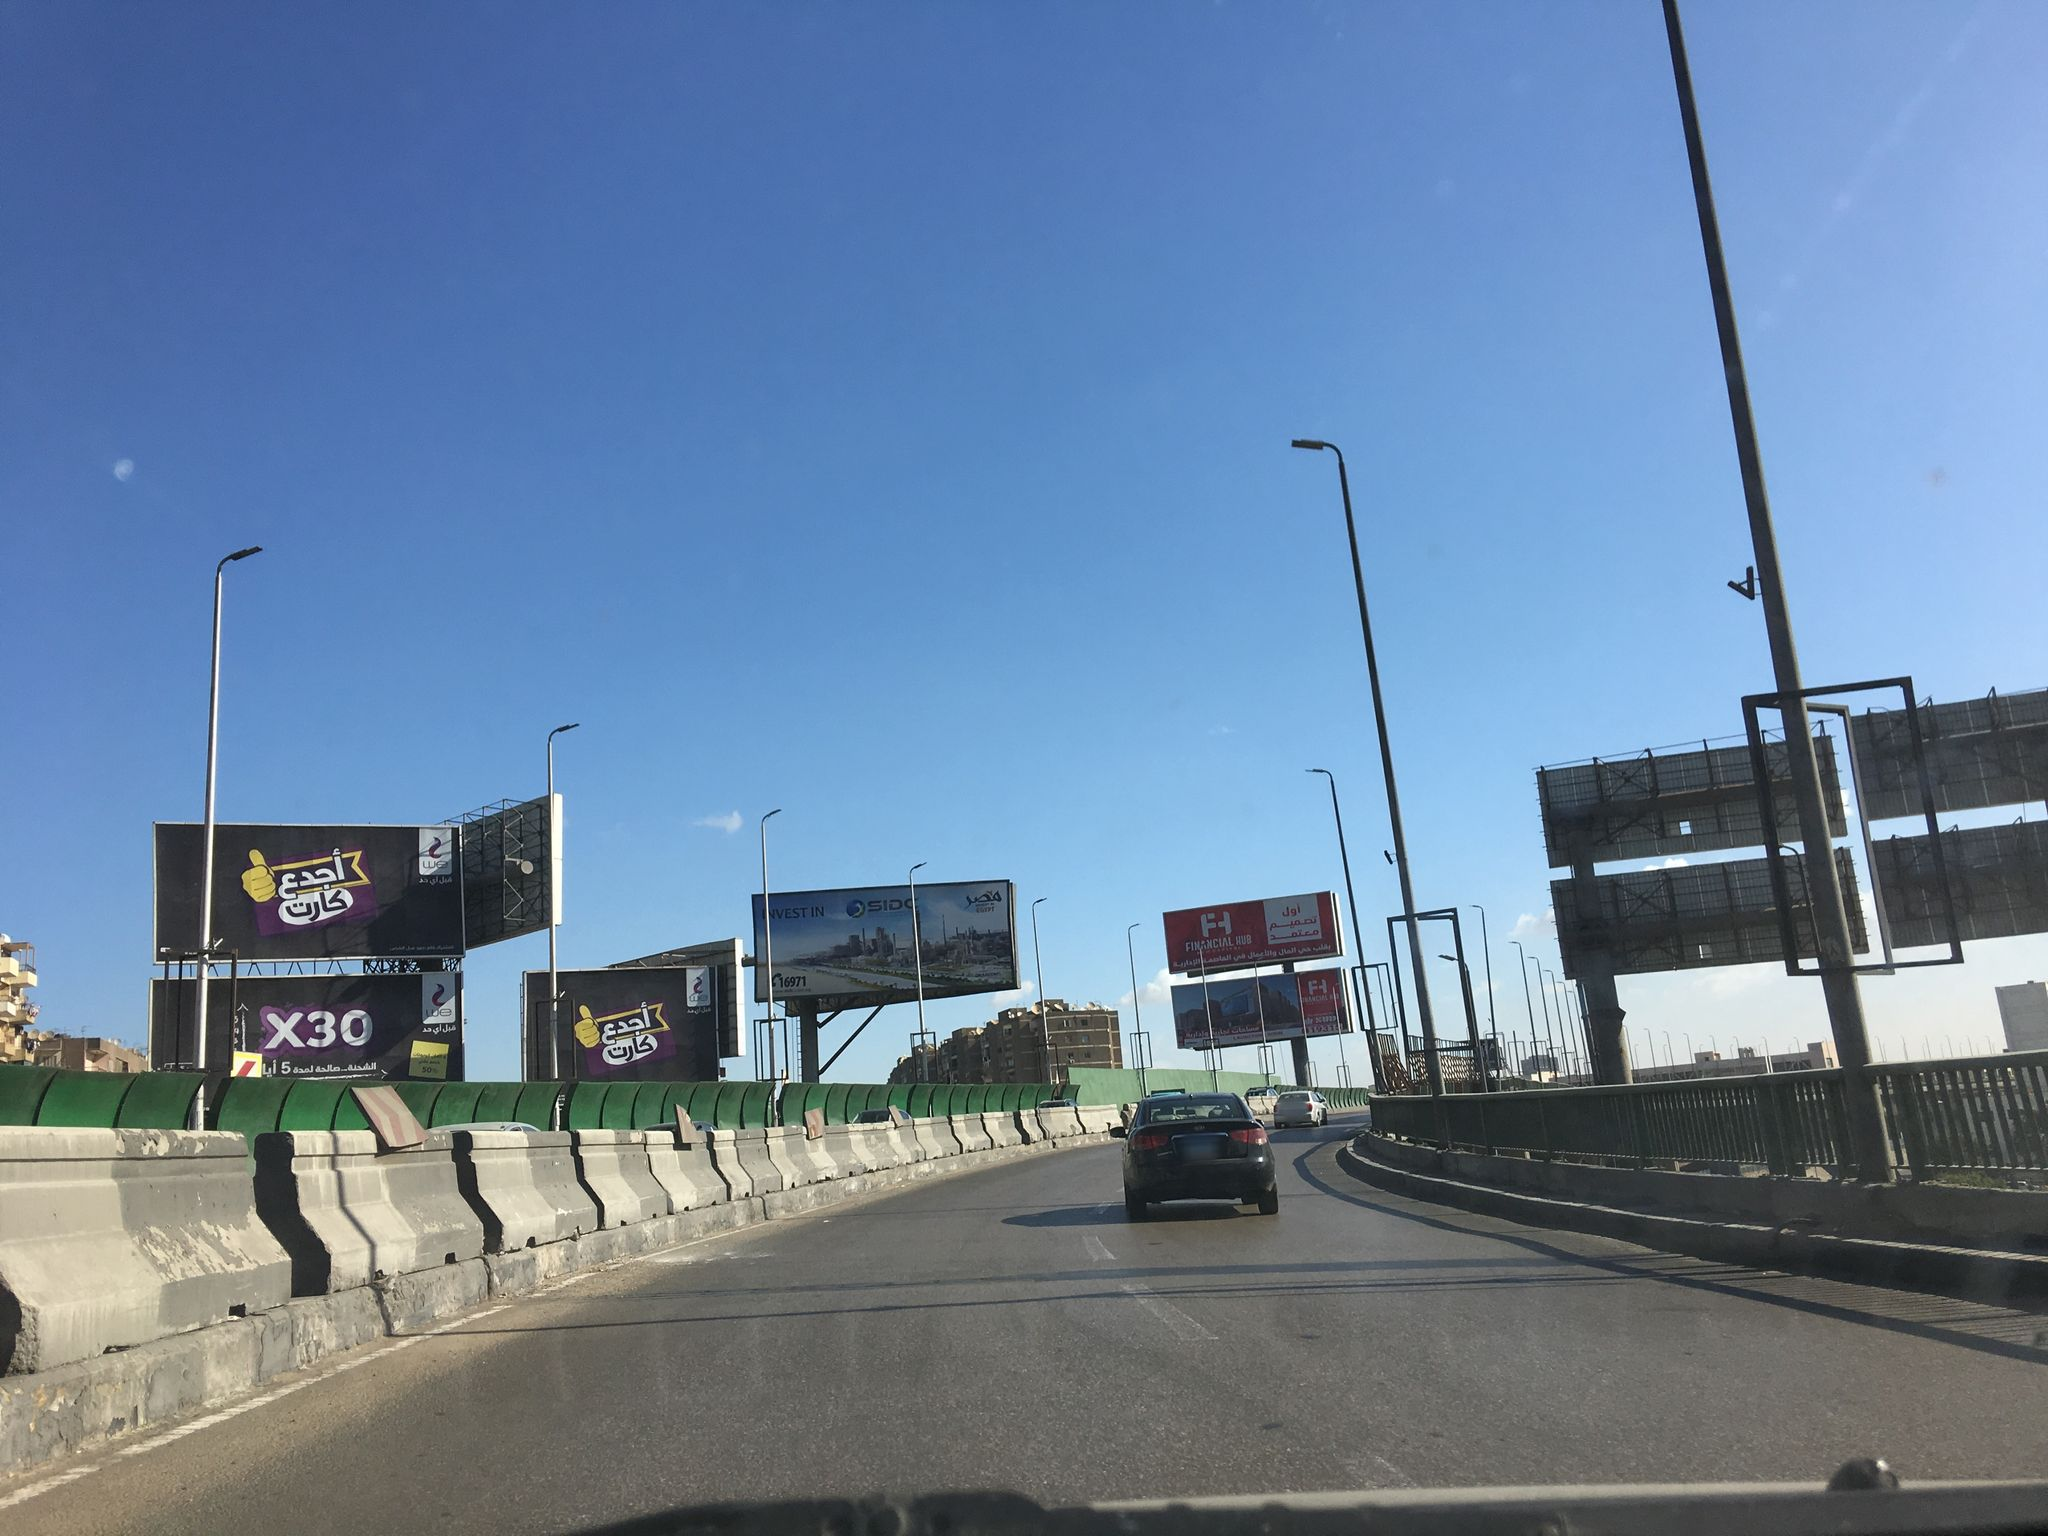car: (1111, 1091, 1280, 1217), (1274, 1091, 1327, 1129)
